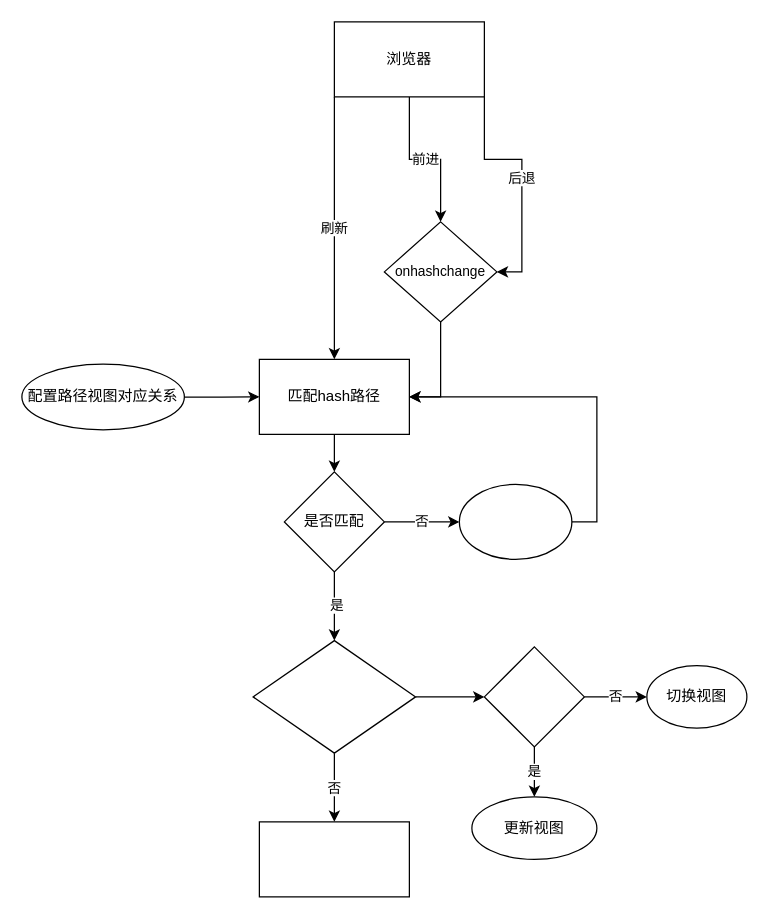
The diagram is 769 pixels wide and 919 high, and some of its shapes have lost their labels. The shapes that lost their labels are listed below. From the top down, each one's box as (x1, y1, x2, y2) in pixels, then its label:
(458, 483, 572, 559): 重定向到路径‘/’
(252, 639, 416, 753): 是否存在上一个路径
(483, 646, 584, 747): 是否相同
